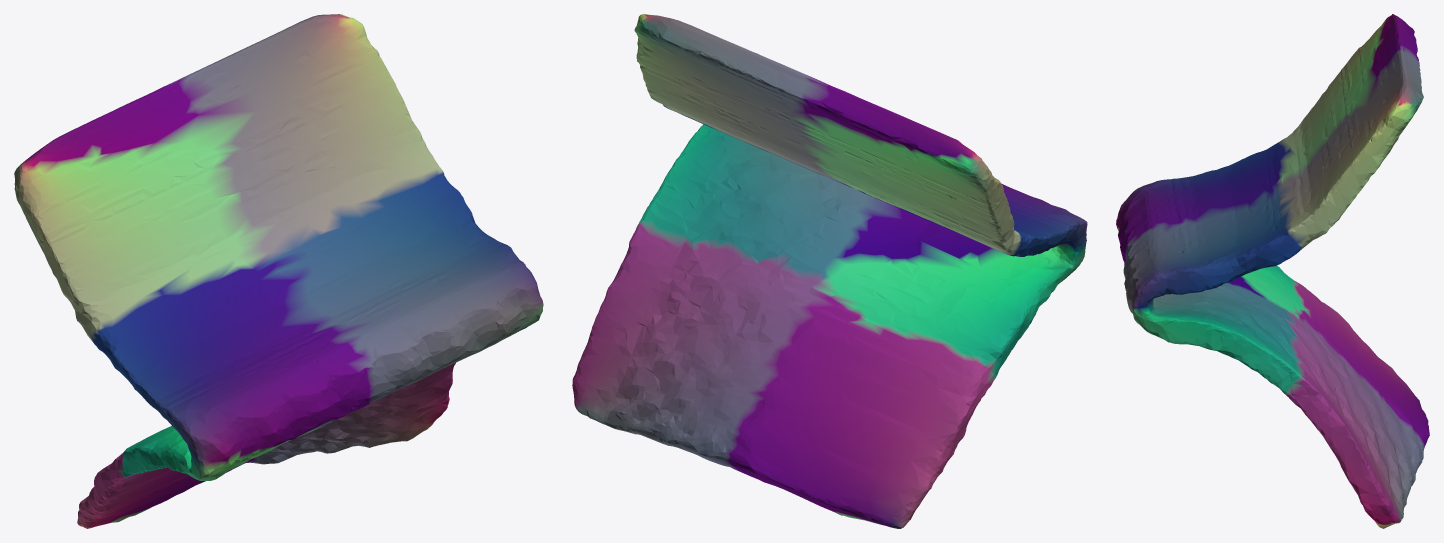
File: paper-9.off.obj
3 renders of one model, left to right at view 1: azimuth 30°, elevation 25°; view 2: azimuth 150°, elevation 25°; view 3: azimuth 270°, elevation 25°, orthographic. The views are drawn at different scales.
Size of the model in its own units: 1.3 by 1.35 by 0.9015.
